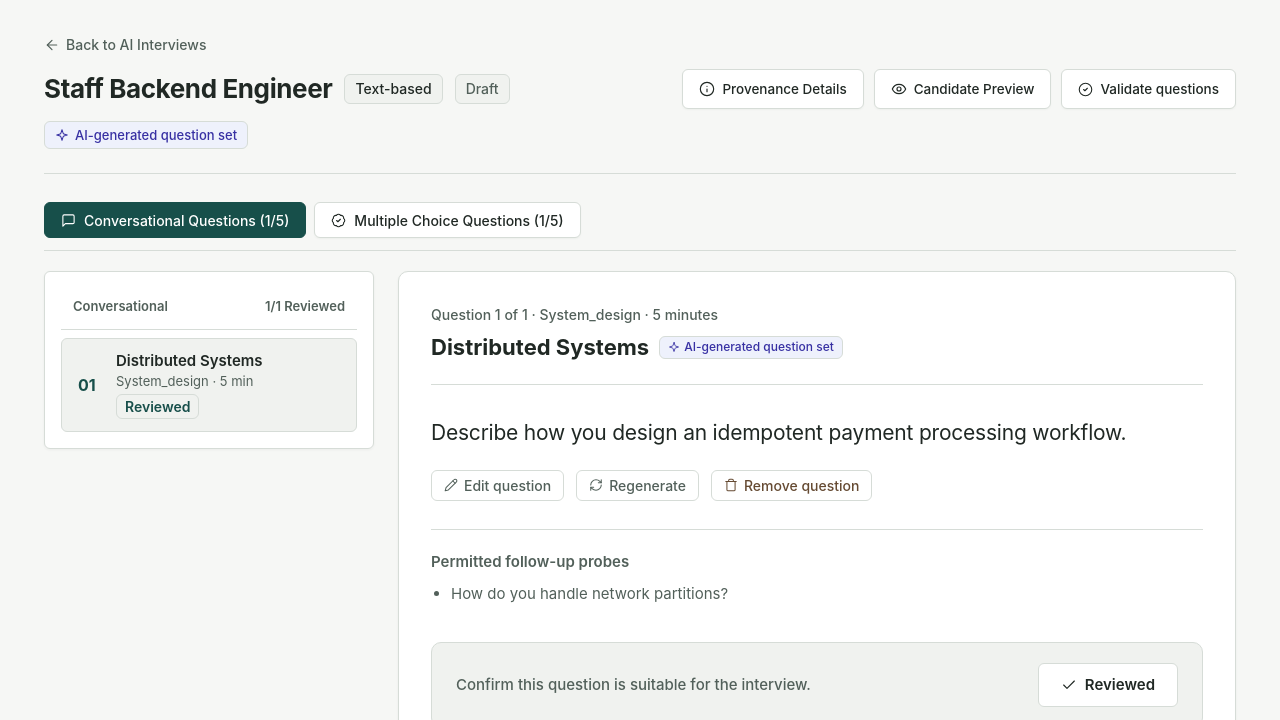
Test: Phase 3F.2 MCQ Management & Candidate Practice Release › AiQuestionSetWorkspace - MCQ Management › opens MCQ authoring modal on clicking Add MCQ
Click the tab "Multiple Choice Questions (1/5)": (448,220) [314,202,581,238]
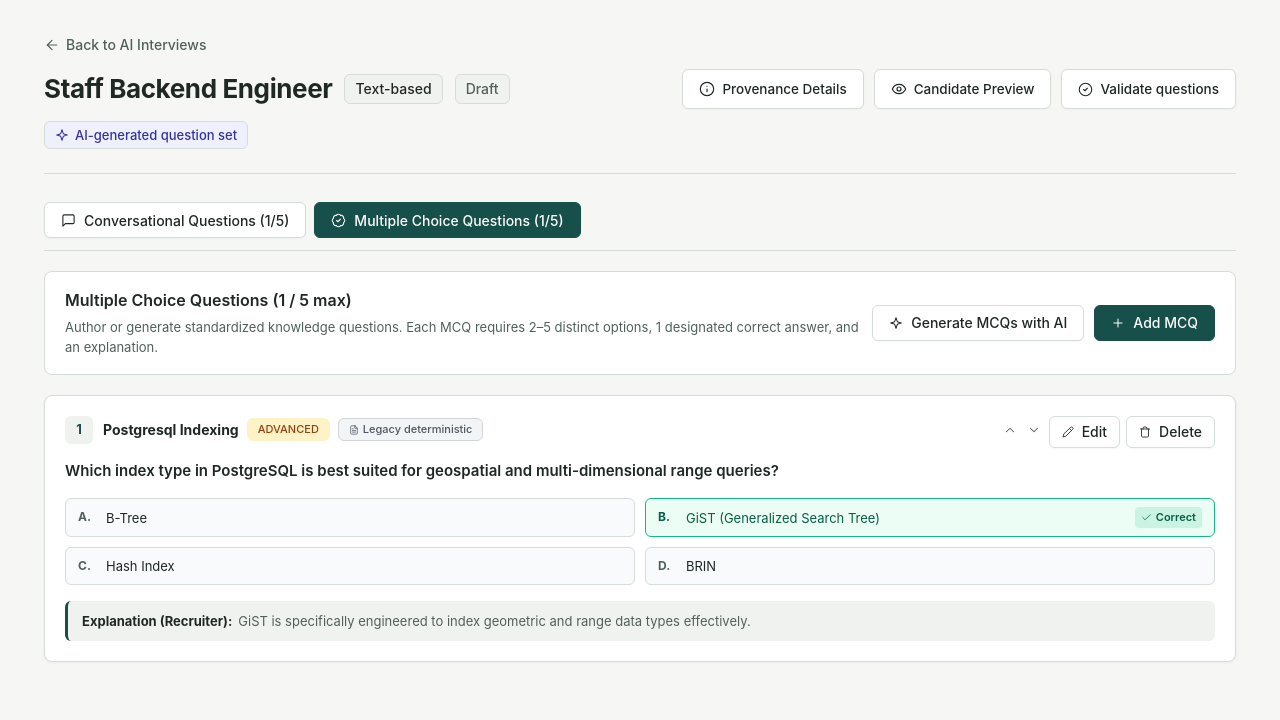
Click the button "Add MCQ": (1155,323) [1094,305,1215,341]
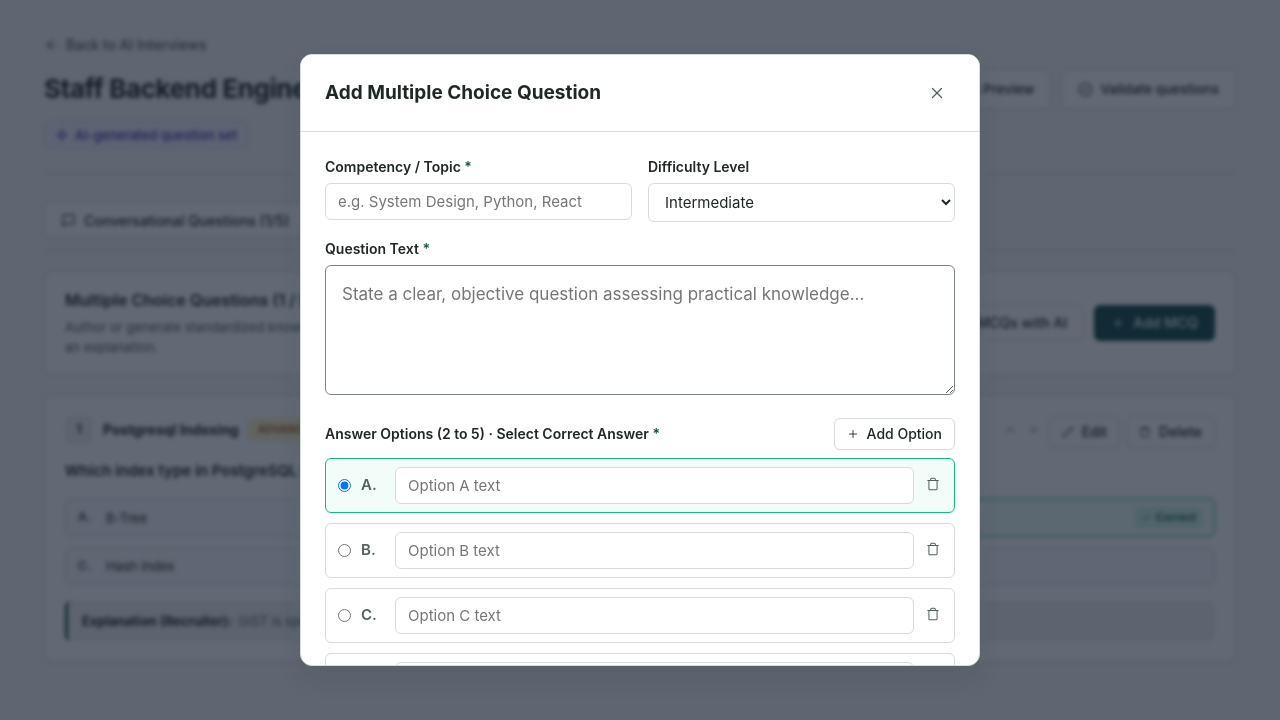
Now the heading "Add Multiple Choice Question" is shown, box [325,78,601,108]
Now the field labelled "Competency / Topic *" is shown, box [325,183,632,220]
Now the text box labelled "Question Text *" is shown, box [325,265,955,395]
